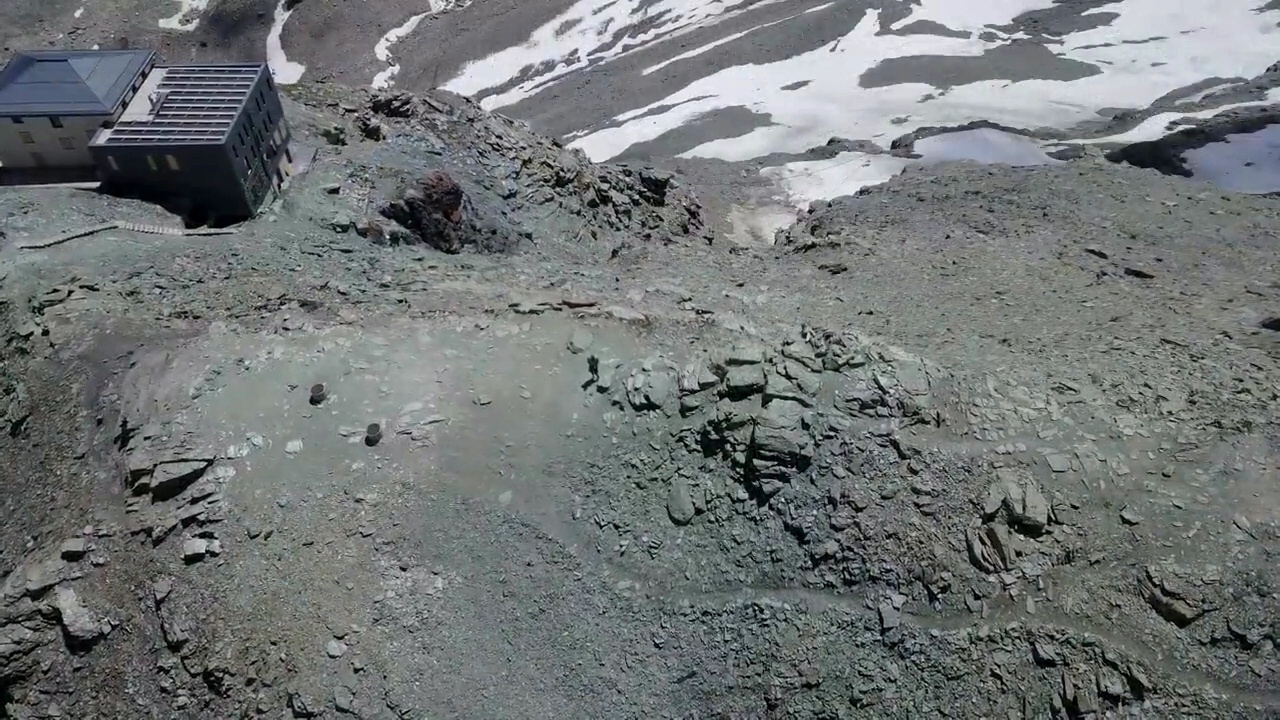insan: (582, 352, 604, 384)
